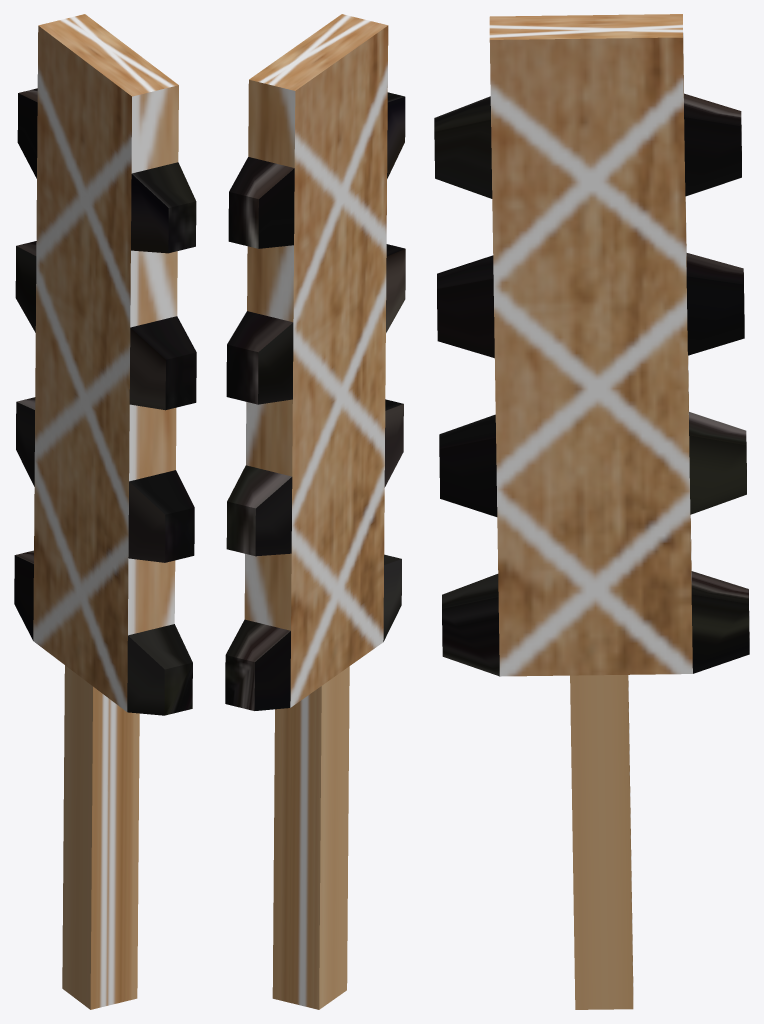
The model's file is olmec_weapon.dae.
3 views of the same model, side by side, from view 1: azimuth 30°, elevation 25°; view 2: azimuth 150°, elevation 25°; view 3: azimuth 270°, elevation 25° (orthographic). The views are drawn at different scales.
Parts seen in each view (by area): view 1: Cubo; view 2: Cubo; view 3: Cubo.
Boxes of the visible parts, x1,y1,x2,y2 form: Cubo: (14, 14, 196, 1009); Cubo: (225, 14, 405, 1009); Cubo: (434, 14, 749, 1009).
Bounding box in the file's own units: 0.095 × 0.5384 × 1.83.
